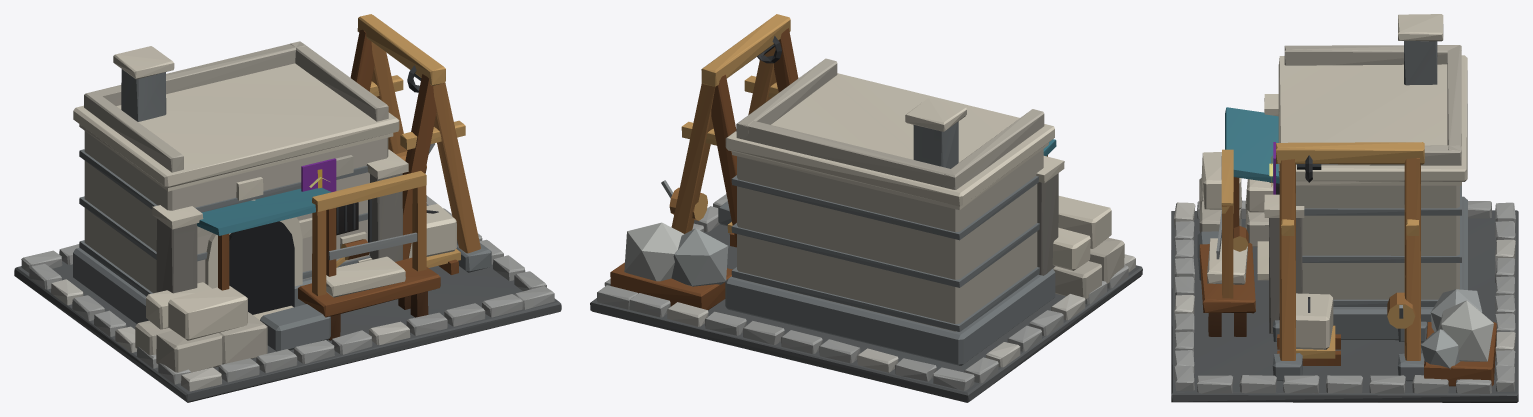
The picture shows the model from 3 angles, left to right: view 1: azimuth 30°, elevation 25°; view 2: azimuth 150°, elevation 25°; view 3: azimuth 270°, elevation 25°; orthographic projection.
Visible parts, largest first — view 1: WK_CityStoneworks_LOD1_Balanced; view 2: WK_CityStoneworks_LOD1_Balanced; view 3: WK_CityStoneworks_LOD1_Balanced.
Boxes of the visible parts, x1,y1,x2,y2 form: WK_CityStoneworks_LOD1_Balanced: [14, 14, 561, 402]; WK_CityStoneworks_LOD1_Balanced: [590, 14, 1142, 402]; WK_CityStoneworks_LOD1_Balanced: [1171, 14, 1518, 402].
Bounding box in the file's own units: 9 × 5.39 × 7.17.
